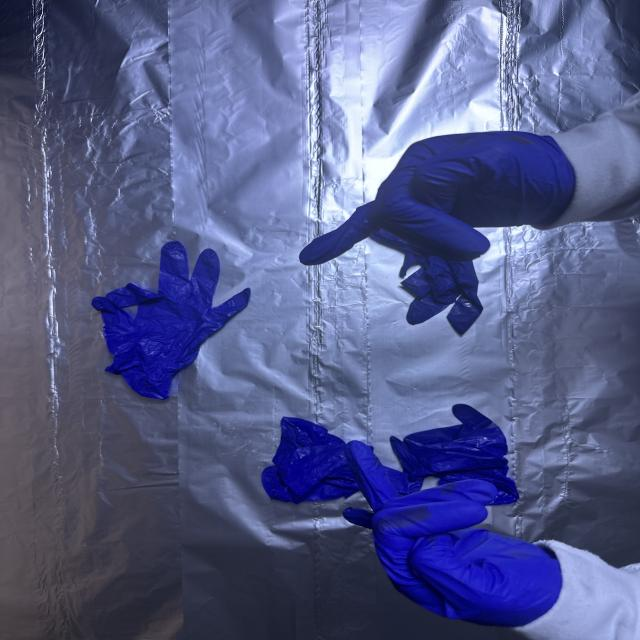gloves_contaminated: (343, 442, 562, 627), (300, 132, 575, 265)
